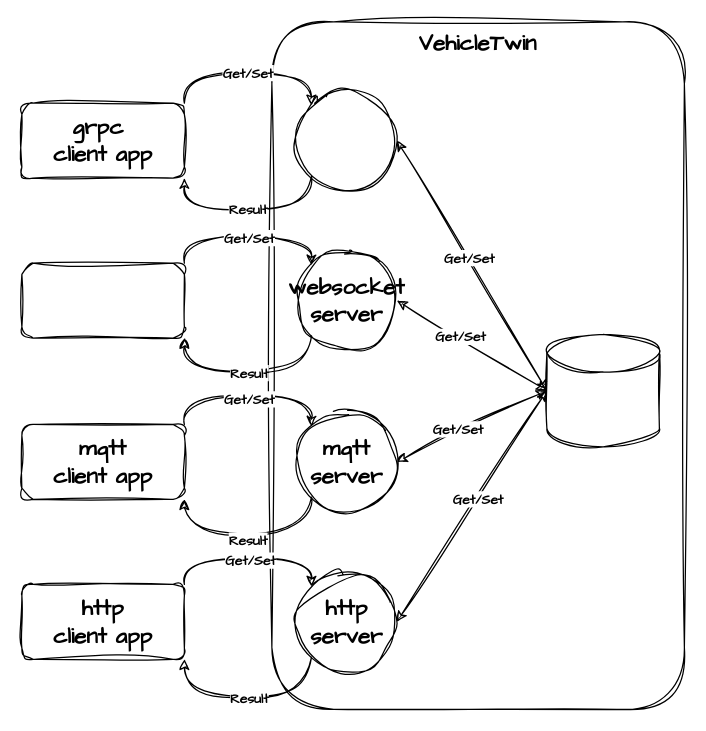
The diagram is 706 pixels wide and 731 high, and some of its shapes have lost their labels. The box of each missing label's shape, as (x1, y1, x2, y2) in pixels:
grpc server: (296, 89, 397, 191)
vss database: (546, 333, 659, 447)
web socket client app: (21, 262, 184, 338)
